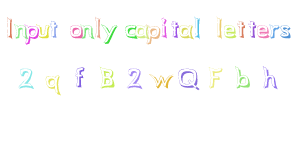2: (17, 67, 36, 89), (127, 66, 143, 91)
B: (99, 65, 115, 89)
F: (207, 66, 223, 90)
I: (3, 15, 19, 42)
Q: (177, 66, 200, 91)
a: (179, 24, 195, 40), (134, 24, 148, 39)
b: (234, 65, 250, 89)
c: (123, 23, 137, 39)
e: (223, 23, 237, 39), (256, 23, 269, 40)
f: (72, 65, 86, 88)
h: (262, 64, 279, 90)
i: (160, 15, 169, 38)
l: (93, 14, 103, 39), (193, 15, 203, 39), (214, 15, 224, 39)
n: (80, 21, 94, 40), (13, 23, 27, 40)
o: (69, 23, 83, 40)
p: (24, 23, 40, 46), (147, 23, 161, 46)
q: (45, 74, 62, 96)
r: (270, 24, 280, 39)
s: (279, 23, 291, 39)
t: (48, 18, 59, 38), (169, 19, 180, 39), (236, 18, 246, 39), (247, 18, 257, 39)
u: (37, 22, 49, 39)
w: (149, 72, 173, 90)
y: (101, 23, 117, 44)
